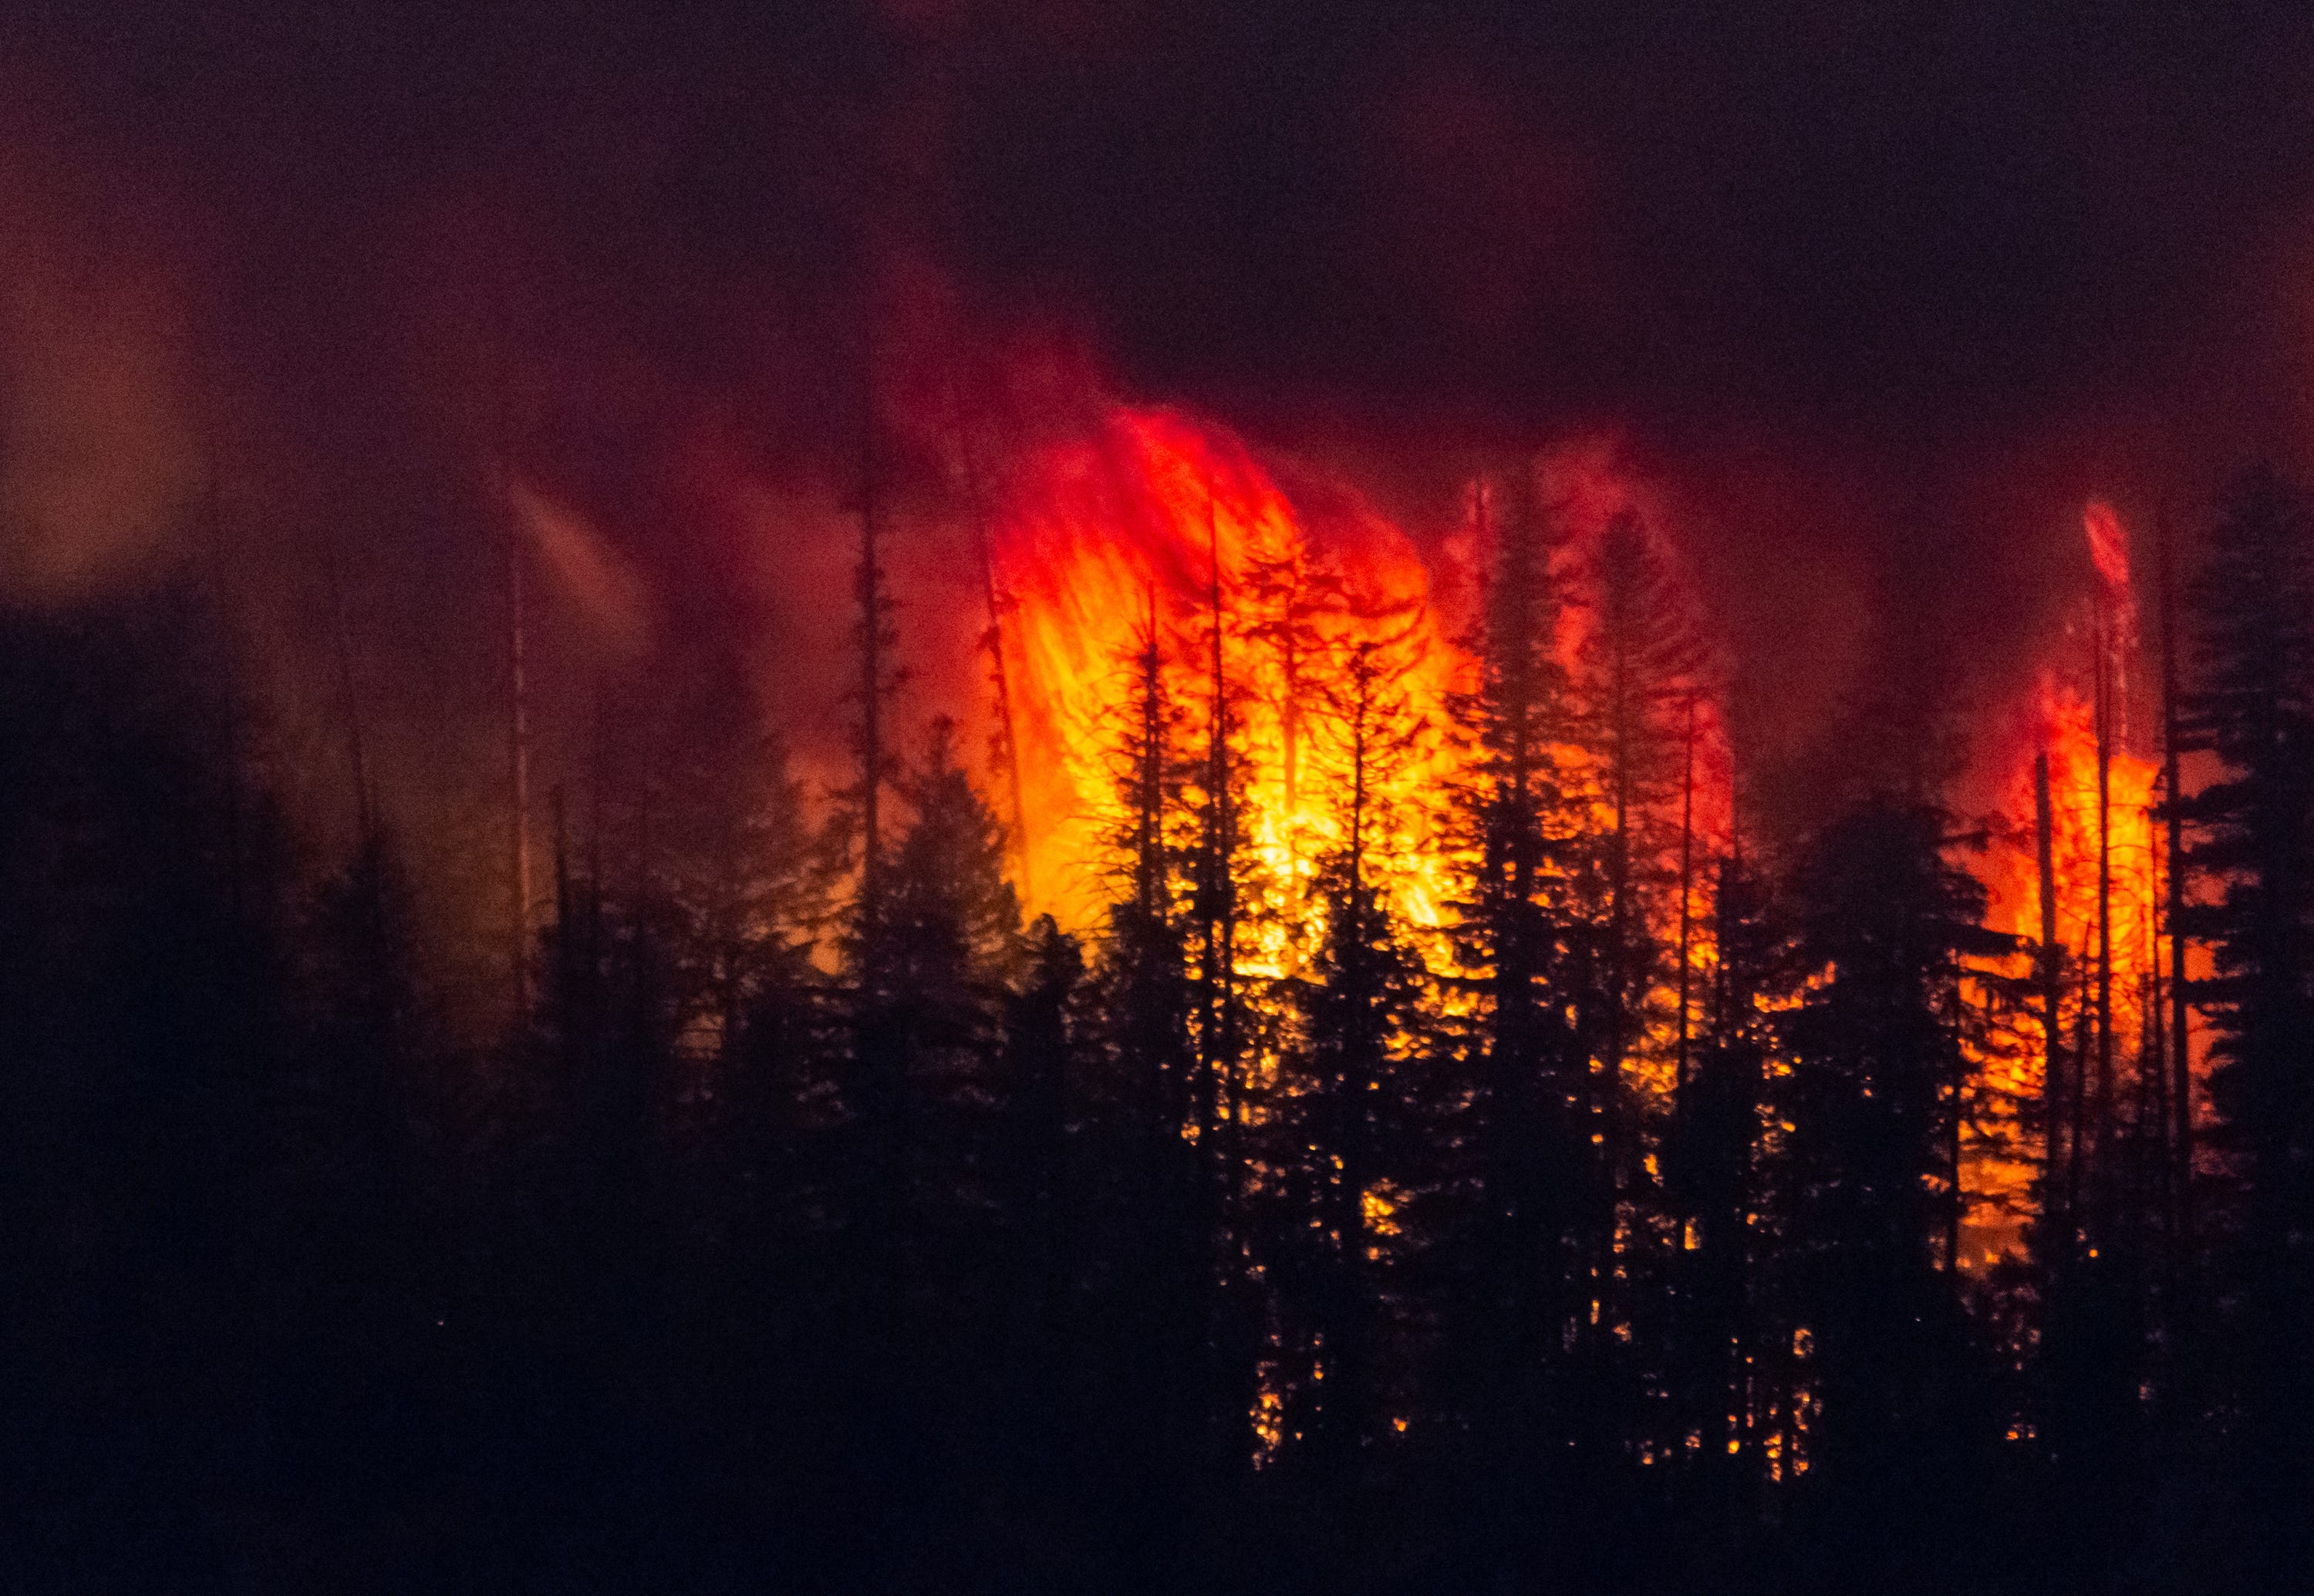fire: (960, 410, 1837, 1498), (1748, 431, 2251, 1424)
